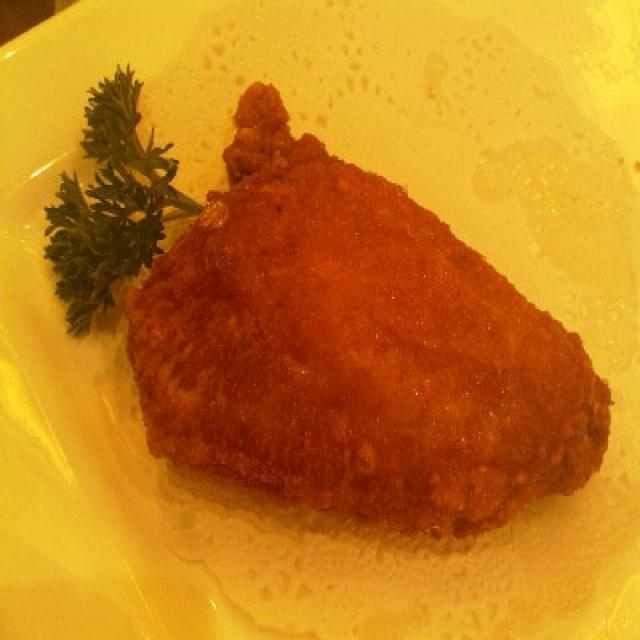Deep fried chicken wing: (120, 91, 614, 546)
